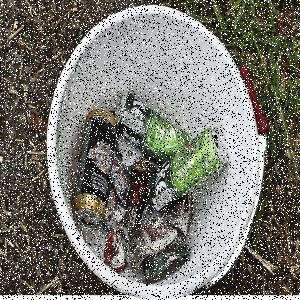Can: (149, 126, 230, 213), (73, 109, 119, 234), (117, 92, 193, 147), (127, 223, 185, 273)
